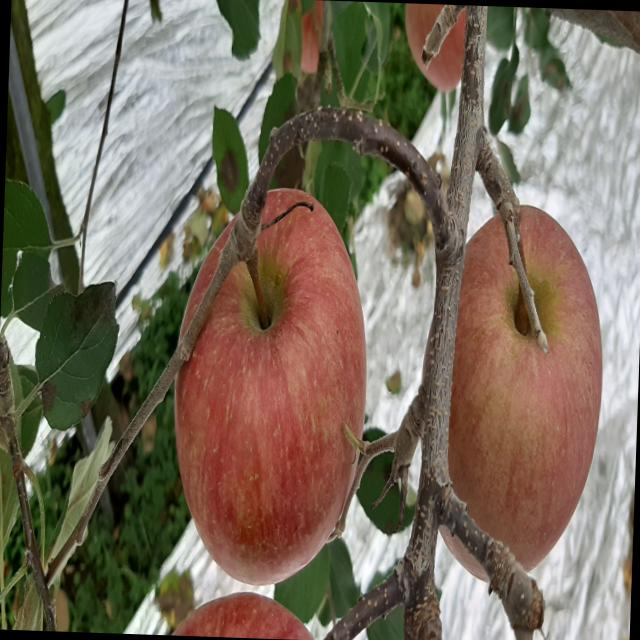fresh: (163, 170, 381, 597), (451, 191, 615, 578)
